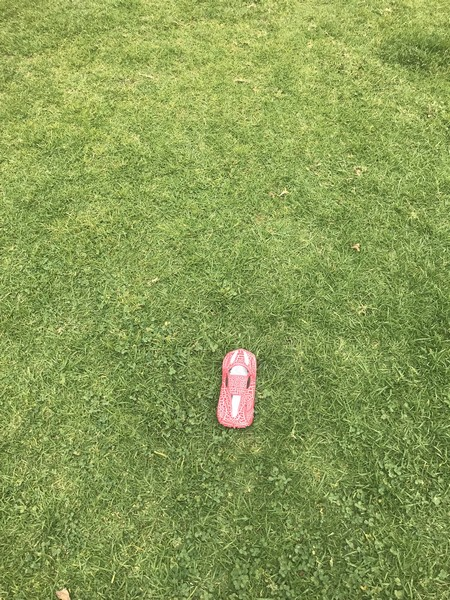RC: (216, 348, 260, 430)
